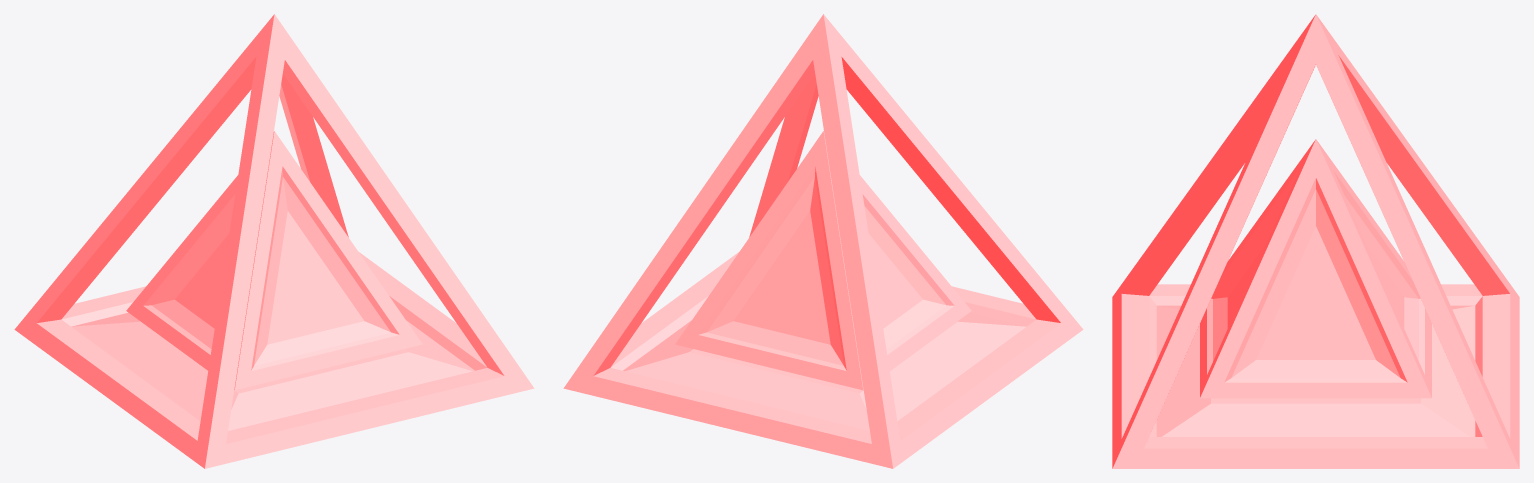
File: battery_red.fbx
3 renders of one model, left to right at view 1: azimuth 30°, elevation 25°; view 2: azimuth 150°, elevation 25°; view 3: azimuth 270°, elevation 25°, orthographic. The views are drawn at different scales.
Visible parts, largest first — view 1: Cube.003, Cube.001, Cube.005; view 2: Cube.003, Cube.001, Cube.005; view 3: Cube.003, Cube.001, Cube.005.
Boxes of the visible parts, box(x1,y1,x2,y2) form: Cube.003: box(21, 27, 525, 461); Cube.001: box(126, 131, 422, 390); Cube.005: box(14, 14, 534, 468); Cube.003: box(572, 27, 1076, 461); Cube.001: box(675, 131, 971, 390); Cube.005: box(563, 14, 1083, 468); Cube.003: box(1115, 27, 1516, 462); Cube.001: box(1200, 139, 1431, 398); Cube.005: box(1112, 14, 1519, 468).
Size of what is drawn, in the model's own units: 200 by 200 by 200.
